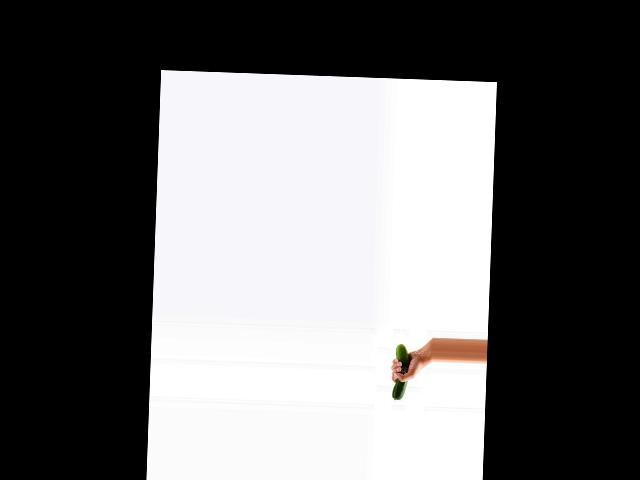cucumber: (391, 344, 409, 400)
